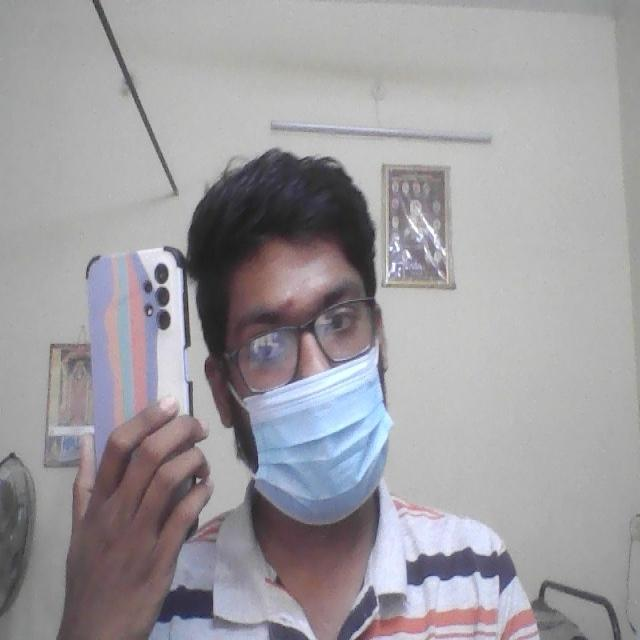Mobile: (81, 248, 196, 442)
